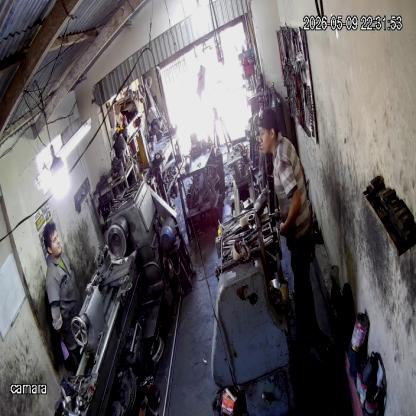sin_lentes: (256, 126, 268, 140), (50, 232, 61, 243)
